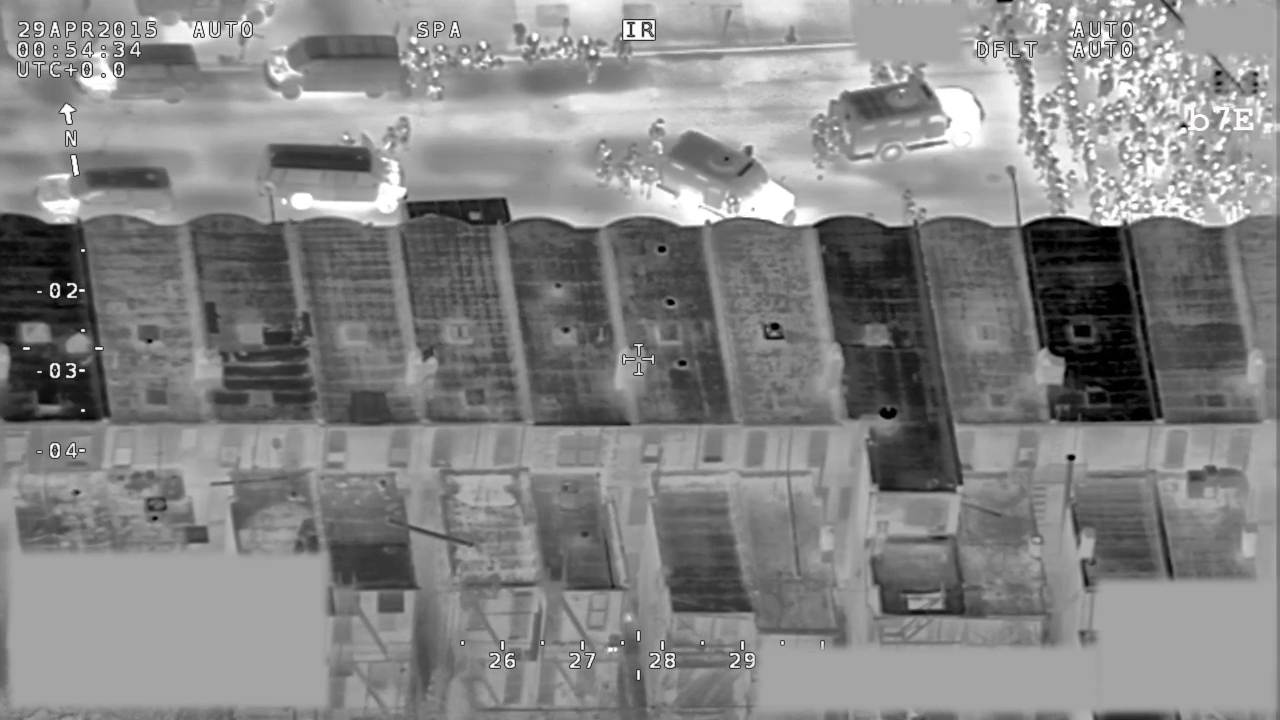vehicle: (827, 61, 988, 168), (660, 126, 799, 230), (257, 139, 411, 213), (261, 31, 405, 101), (69, 40, 209, 103), (27, 165, 178, 221)
